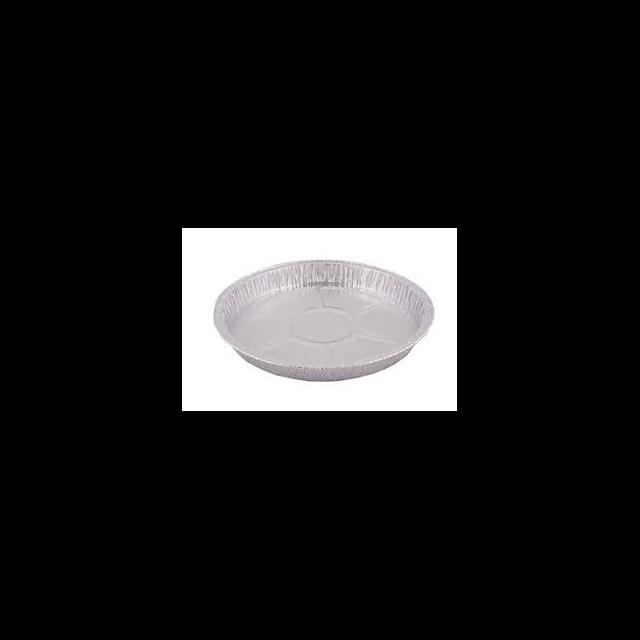metal: (215, 258, 434, 382)
